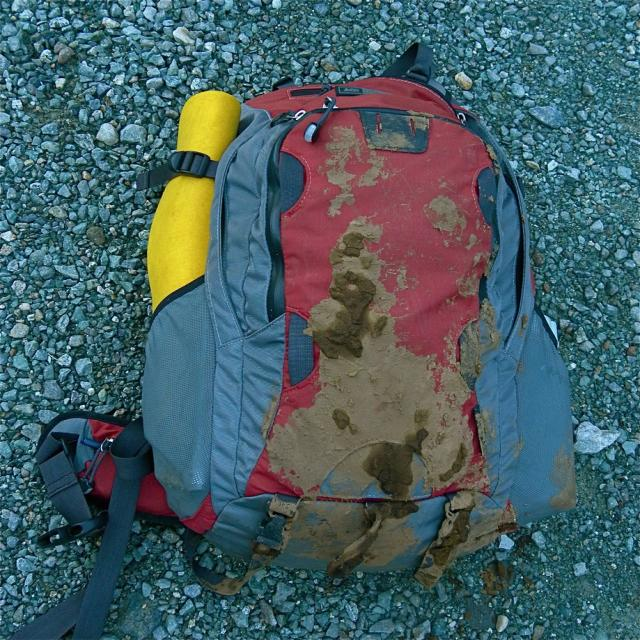backpack: (19, 59, 570, 563)
